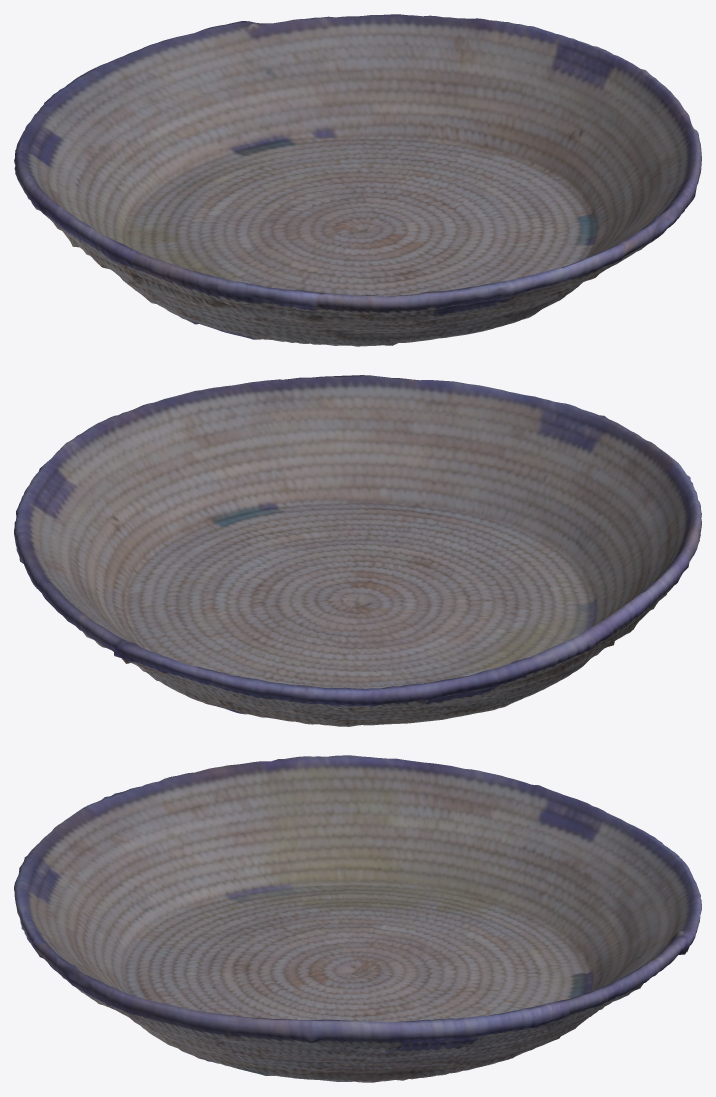
File: bowl.gltf
The picture shows the model from 3 angles, top to bottom: view 1: azimuth 30°, elevation 25°; view 2: azimuth 150°, elevation 25°; view 3: azimuth 270°, elevation 25°; orthographic projection. The views are drawn at different scales.
Parts seen in each view (by area): view 1: model-hi_fixed; view 2: model-hi_fixed; view 3: model-hi_fixed.
Part boxes in pixels (<box>): model-hi_fixed: <box>14,14,701,346</box>; model-hi_fixed: <box>14,375,701,726</box>; model-hi_fixed: <box>14,755,701,1082</box>.
Size of the model in its own units: 40.16 by 7.44 by 42.04.
Materials: 1 (1 with a texture image).
